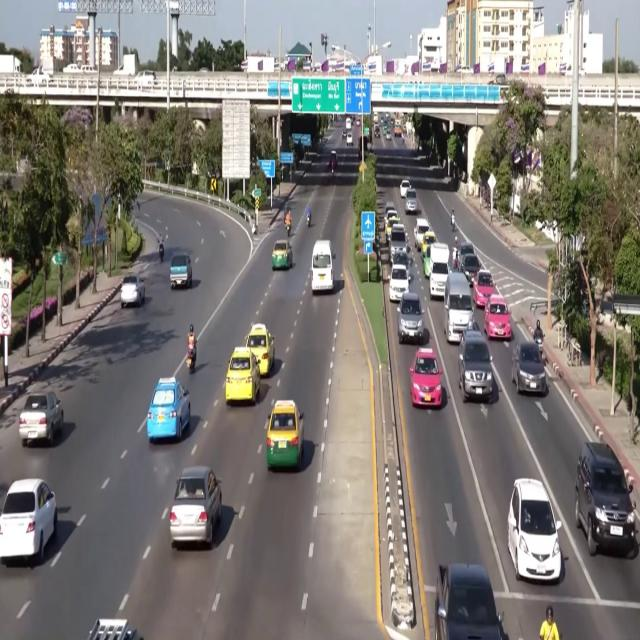car: (575, 442, 636, 556), (508, 479, 561, 581), (0, 479, 57, 565), (169, 466, 221, 548), (147, 377, 190, 444), (266, 400, 303, 470), (19, 392, 63, 447), (459, 330, 492, 402), (225, 347, 260, 405), (410, 348, 442, 406), (512, 341, 546, 394), (246, 323, 274, 376), (397, 292, 424, 343), (484, 295, 511, 340), (473, 269, 494, 308), (121, 274, 145, 308), (170, 253, 192, 288), (389, 265, 409, 302), (389, 224, 408, 262), (459, 254, 481, 286), (272, 240, 292, 270), (414, 217, 430, 251), (385, 211, 399, 240), (30, 66, 52, 84), (391, 250, 410, 269), (458, 241, 475, 262), (135, 70, 156, 87), (405, 188, 418, 214), (421, 231, 436, 253), (463, 318, 481, 333), (489, 73, 507, 85), (384, 201, 396, 218), (400, 180, 411, 198), (328, 151, 337, 170), (63, 64, 81, 73), (81, 65, 96, 73), (346, 132, 352, 146), (374, 126, 380, 137), (385, 131, 391, 141), (342, 129, 347, 139), (356, 120, 360, 127)
scooty: (187, 350, 195, 374), (159, 243, 164, 262), (159, 244, 164, 262), (286, 223, 290, 237), (307, 216, 310, 227)
truck: (434, 564, 502, 639), (88, 619, 143, 639), (246, 56, 277, 73), (114, 55, 137, 76), (0, 55, 21, 74), (358, 136, 368, 160), (393, 120, 402, 138)
